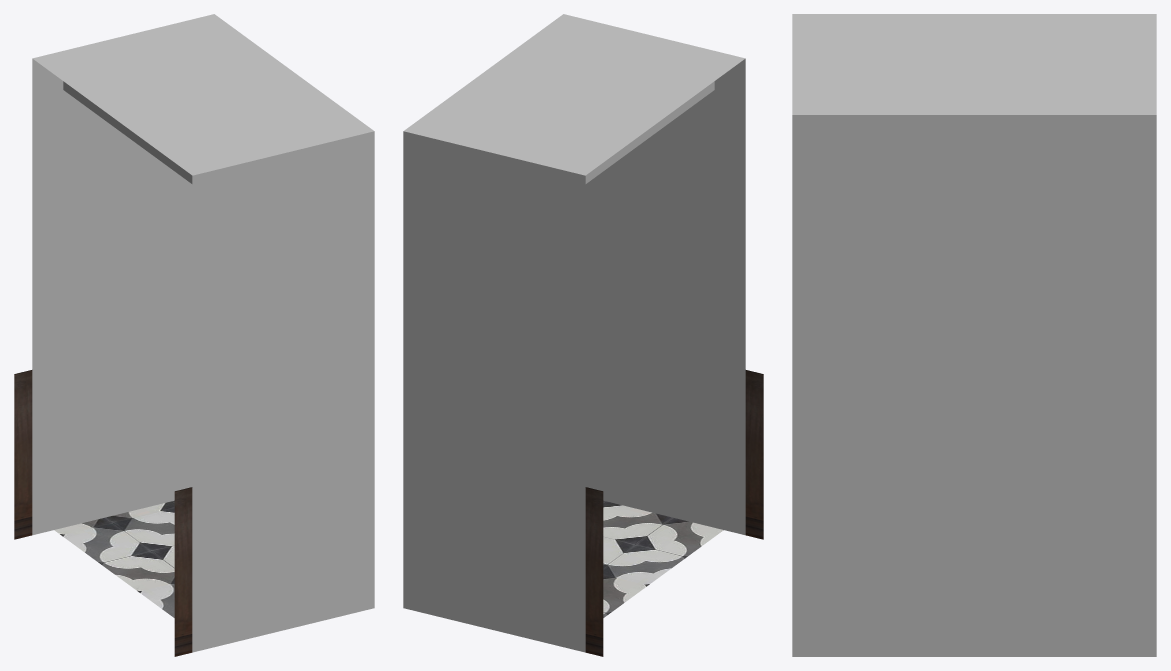
The model's file is ExportLibraryArch.FBX.
3 renders of one model, left to right at view 1: azimuth 30°, elevation 25°; view 2: azimuth 150°, elevation 25°; view 3: azimuth 270°, elevation 25°, orthographic. The views are drawn at different scales.
Visible parts, largest first — view 1: library_arch; view 2: library_arch; view 3: library_arch.
Part boxes in pixels (<box>): library_arch: <box>14,14,374,656</box>; library_arch: <box>403,14,763,656</box>; library_arch: <box>792,14,1156,656</box>.
Bounding box in the file's own units: 50.48 × 70 × 115.
